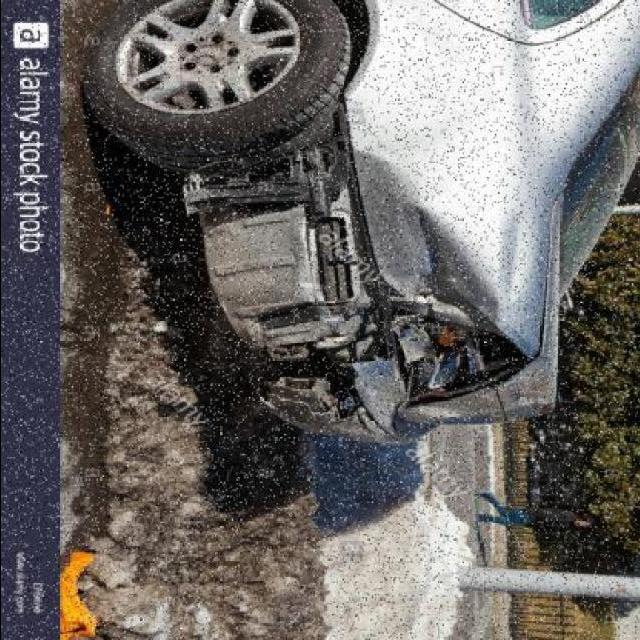quaterpanel-dent: (267, 0, 578, 311)
